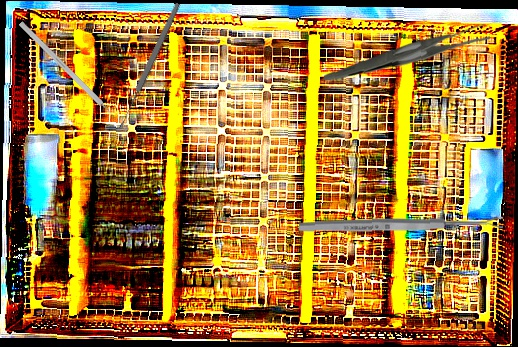Dressing Forceps: (323, 18, 491, 86)
Hook Surgical: (18, 21, 123, 125)
Surgical Spoon: (116, 1, 182, 131), (298, 216, 504, 234)
